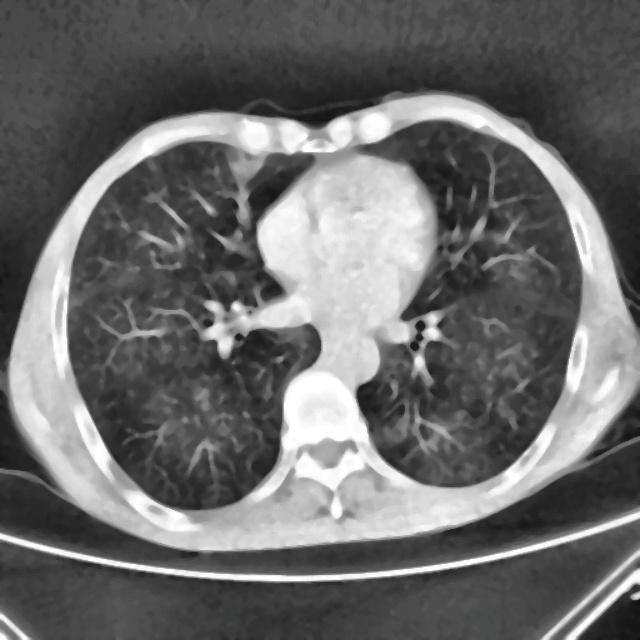covid: (5, 88, 638, 554)
